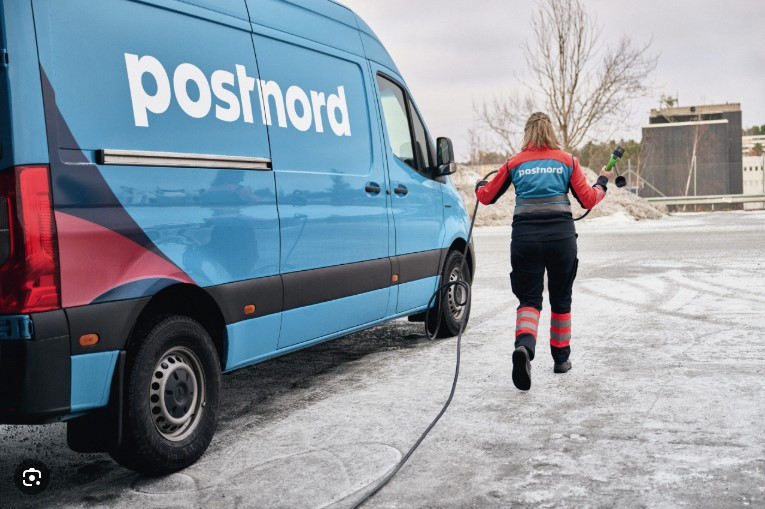postnord: (0, 0, 479, 484)
